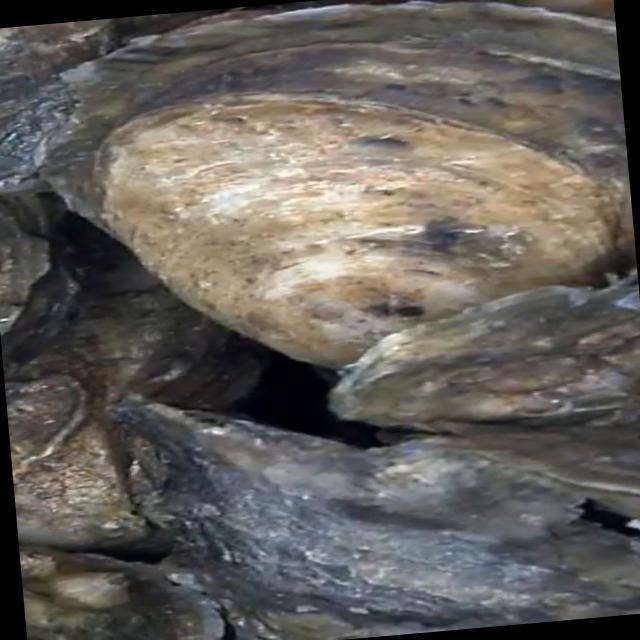Oyster- Indeterminate: (40, 0, 633, 371), (110, 401, 640, 640), (14, 214, 265, 557), (330, 281, 640, 520), (0, 19, 120, 193), (20, 546, 226, 640), (0, 192, 80, 365), (5, 374, 87, 482)
